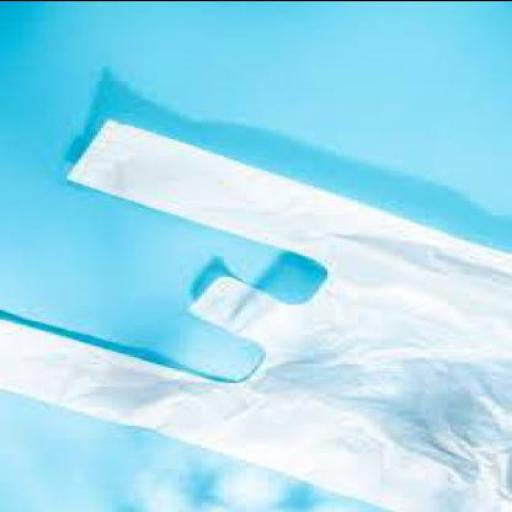plastic: (0, 120, 511, 510)
